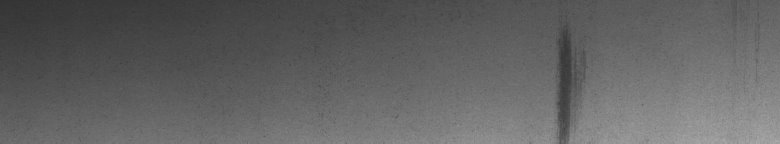hd: (549, 29, 585, 136)
